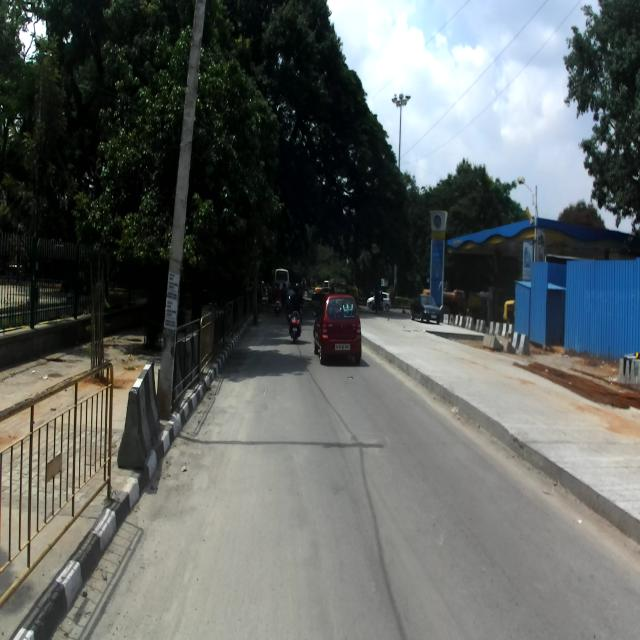car ahead at: (317, 289, 364, 362)
